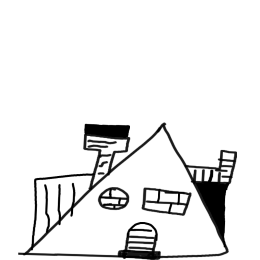bottom_placed_house: (1, 1, 260, 260)
chimney: (82, 108, 135, 185), (185, 133, 244, 191)
closed_window: (137, 177, 195, 217), (96, 179, 129, 213)
door: (114, 222, 167, 260)
single_line_roof: (49, 96, 255, 187)
wall: (21, 162, 243, 260)
